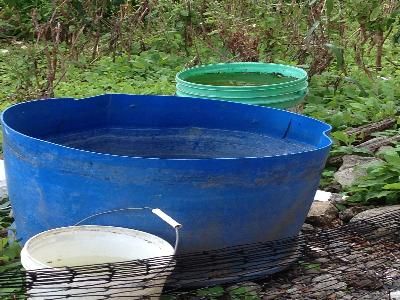bucket: (5, 94, 334, 284), (19, 226, 176, 298), (172, 60, 311, 118)
